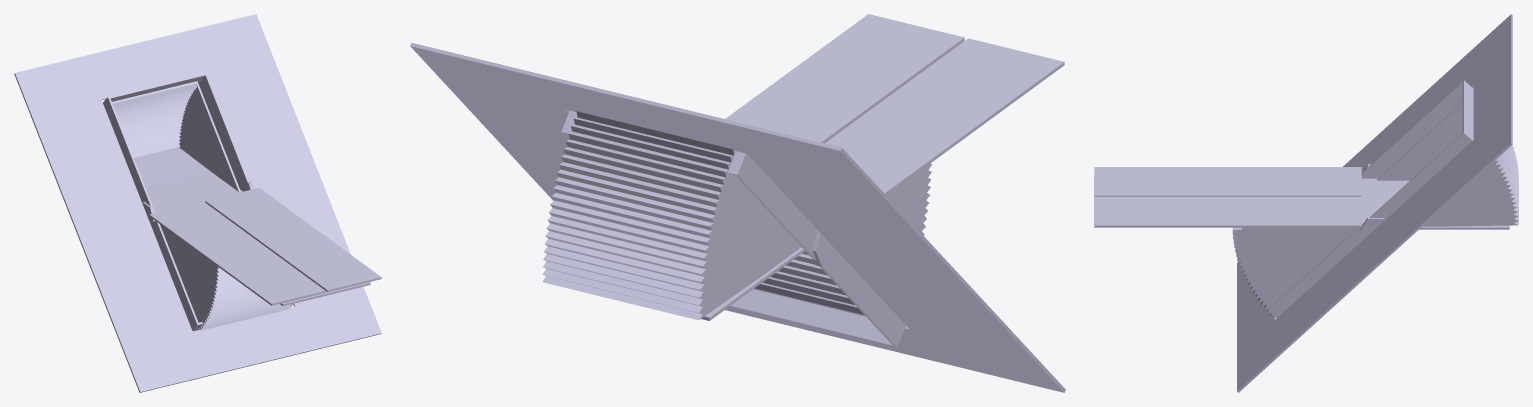
File: LSPan04.glb
3 views of the same model, side by side, from view 1: azimuth 30°, elevation 25°; view 2: azimuth 150°, elevation 25°; view 3: azimuth 270°, elevation 25° (orthographic). The views are drawn at different scales.
Parts seen in each view (by area): view 1: copy_Body021, copy_Body022, copy_LinkGroup004, copy_Body017, copy_Body023, copy_Body, copy_LinkGroup003, copy_Body016; view 2: copy_Body021, copy_Body022, copy_LinkGroup004, copy_Body, copy_Body016, copy_Body017, copy_Body023, copy_LinkGroup003, copy_Body002; view 3: copy_Body021, copy_Body016, copy_Body022, copy_Body017, copy_Body, copy_Body023, copy_LinkGroup004, copy_LinkGroup003.
Boxes of the visible parts, x1,y1,x2,y2 form: copy_Body021: (14,14,381,392); copy_Body022: (112,81,240,192); copy_LinkGroup004: (193,195,370,306); copy_Body017: (149,204,314,305); copy_Body023: (160,224,292,330); copy_Body: (103,73,292,331); copy_LinkGroup003: (145,170,242,212); copy_Body016: (222,187,381,289); copy_Body021: (410,42,1065,392); copy_Body022: (542,111,801,320); copy_LinkGroup004: (745,19,1044,180); copy_Body: (561,110,905,347); copy_Body016: (725,14,943,137); copy_Body017: (853,48,1064,195); copy_Body023: (753,163,931,316); copy_LinkGroup003: (701,247,804,320); copy_Body002: (812,230,836,266); copy_Body021: (1237,14,1512,392); copy_Body016: (1094,202,1361,227); copy_Body022: (1377,103,1518,226); copy_Body017: (1094,167,1361,189); copy_Body: (1268,80,1473,318); copy_Body023: (1232,227,1355,315); copy_LinkGroup004: (1094,176,1361,224); copy_LinkGroup003: (1242,178,1509,229).
Size of the model in its own units: 1.68 by 1.52 by 2.34.
